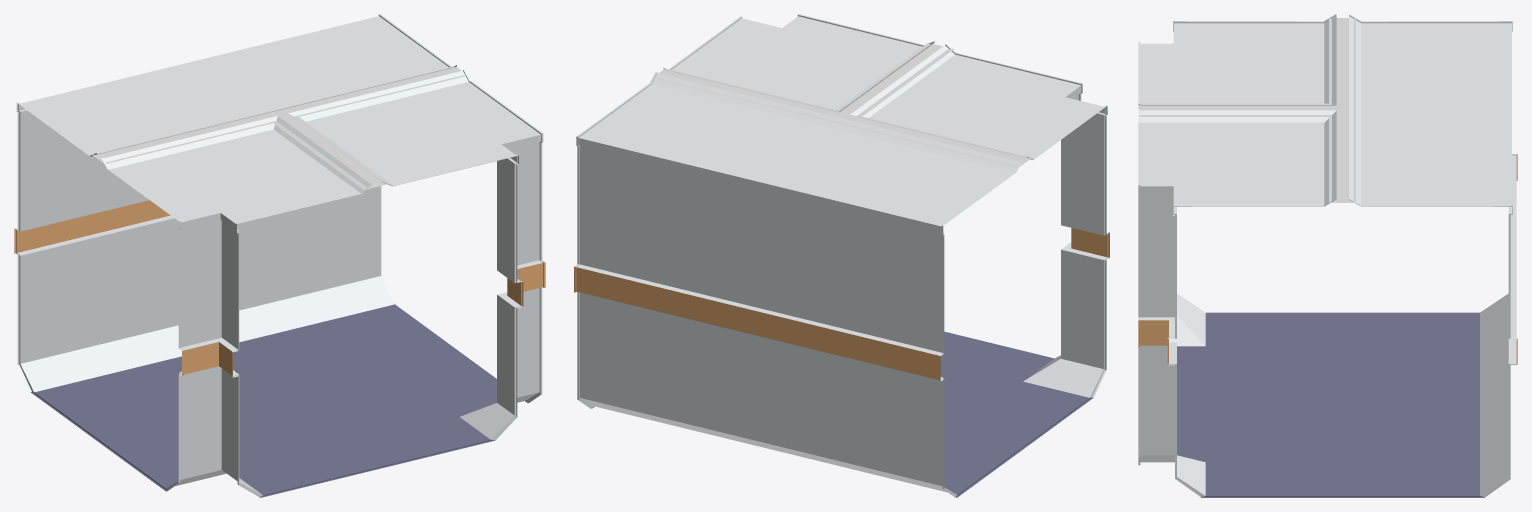
Rendered from T-Gang.fbx.
The picture shows the model from 3 angles, left to right: view 1: azimuth 30°, elevation 25°; view 2: azimuth 150°, elevation 25°; view 3: azimuth 270°, elevation 25°; orthographic projection. The views are drawn at different scales.
Parts seen in each view (by area): view 1: T-Gang; view 2: T-Gang; view 3: T-Gang.
Part boxes in pixels (x1,y1,x2,y2): T-Gang: (14,14,545,497); T-Gang: (574,14,1109,497); T-Gang: (1138,14,1517,497).
Size of the model in its own units: 2.78 by 2.09 by 2.4.
